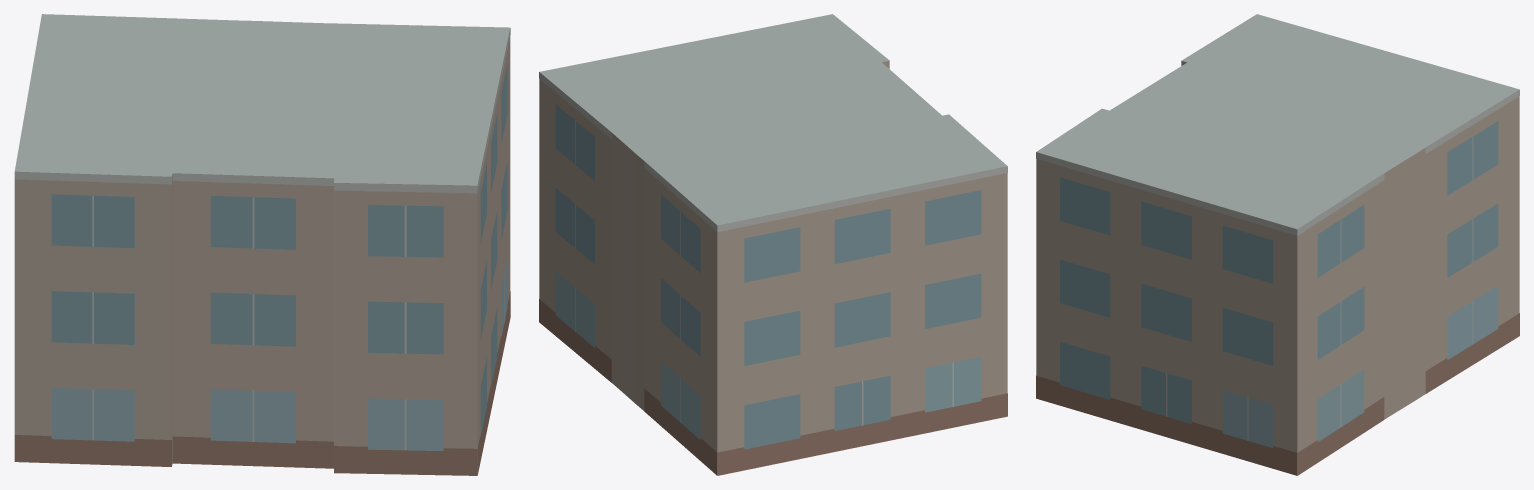
File: survey-upis-32780054.glb
3 views of the same model, side by side, from view 1: azimuth 30°, elevation 25°; view 2: azimuth 150°, elevation 25°; view 3: azimuth 270°, elevation 25° (orthographic). The views are drawn at different scales.
Visible parts, largest first — view 1: survey-upis-32780054.tmp; view 2: survey-upis-32780054.tmp; view 3: survey-upis-32780054.tmp.
Boxes of the visible parts, bbox=[...] form: survey-upis-32780054.tmp: bbox=[14, 14, 510, 475]; survey-upis-32780054.tmp: bbox=[539, 14, 1007, 475]; survey-upis-32780054.tmp: bbox=[1036, 14, 1519, 475].
Size of the model in its own units: 17.15 by 9.15 by 16.28.
